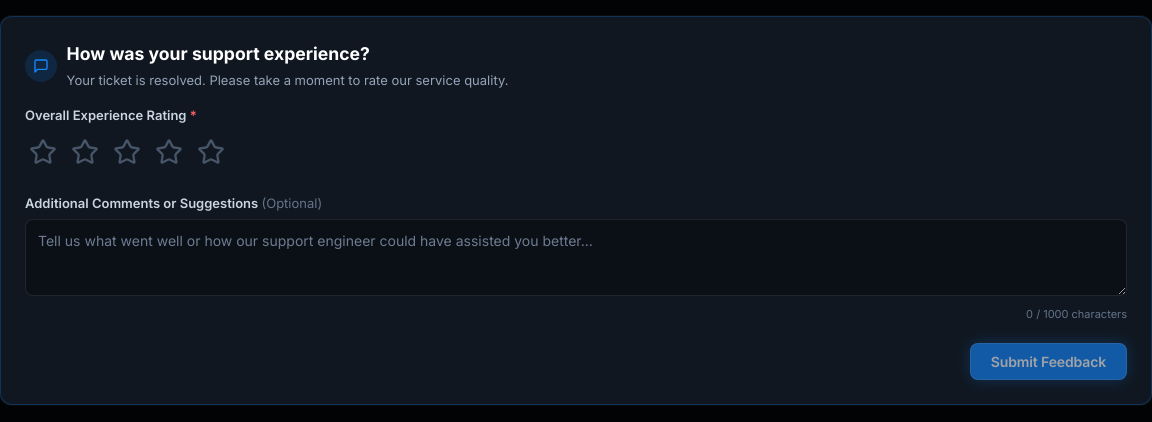
Scenario: Frontend Customer Feedback and Ratings Component Tests › submits rating and comment, and displays thank-you confirmation state
The image size is (1152, 422).
// Select 5 stars
Click the radio button named "5 star - Excellent" at point(211, 154), box [193,134,229,174]
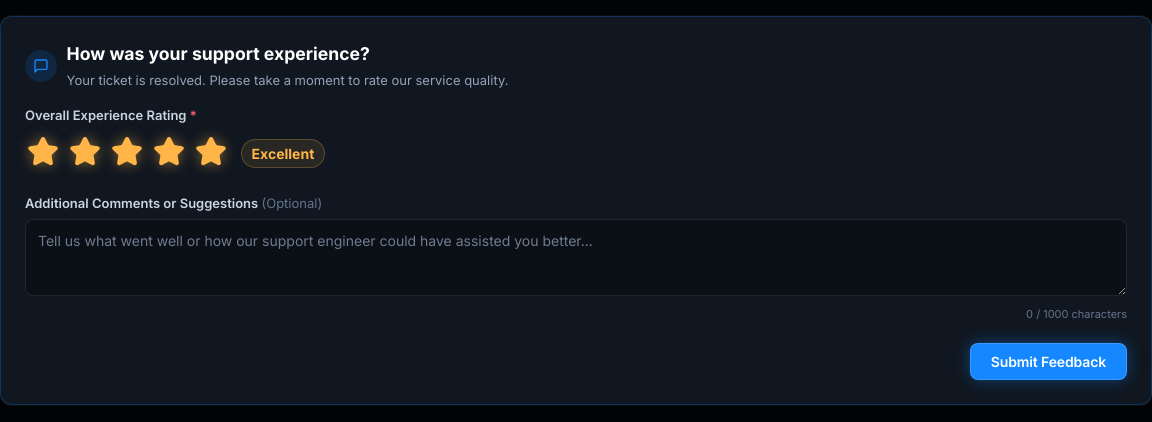
// Enter comment
Replace the text in the text box with placeholder "Tell us what went well" with "Exceptional service by the engineering team!" at point(576, 258), box [25,220,1127,296]
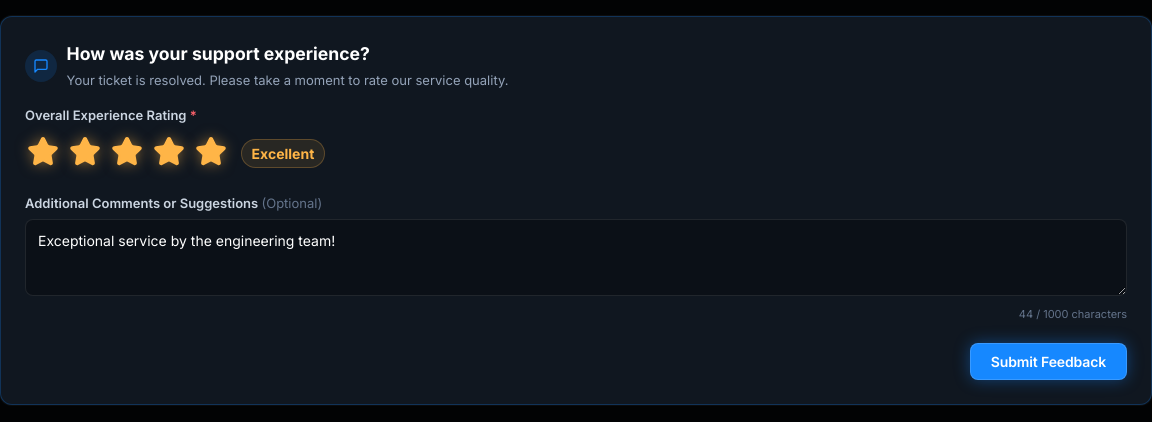
Click the button "Submit Feedback" at point(1048, 361), box [970,343,1127,380]
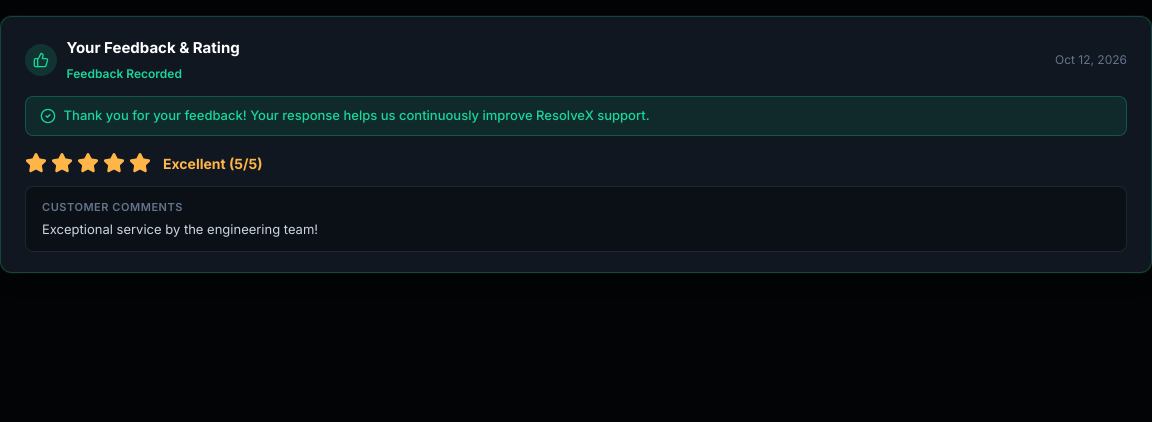
Result: the text "Thank you for your feedback!" is shown at [64,107,650,123]
Result: the text "Feedback Recorded" is shown at [67,66,182,80]
